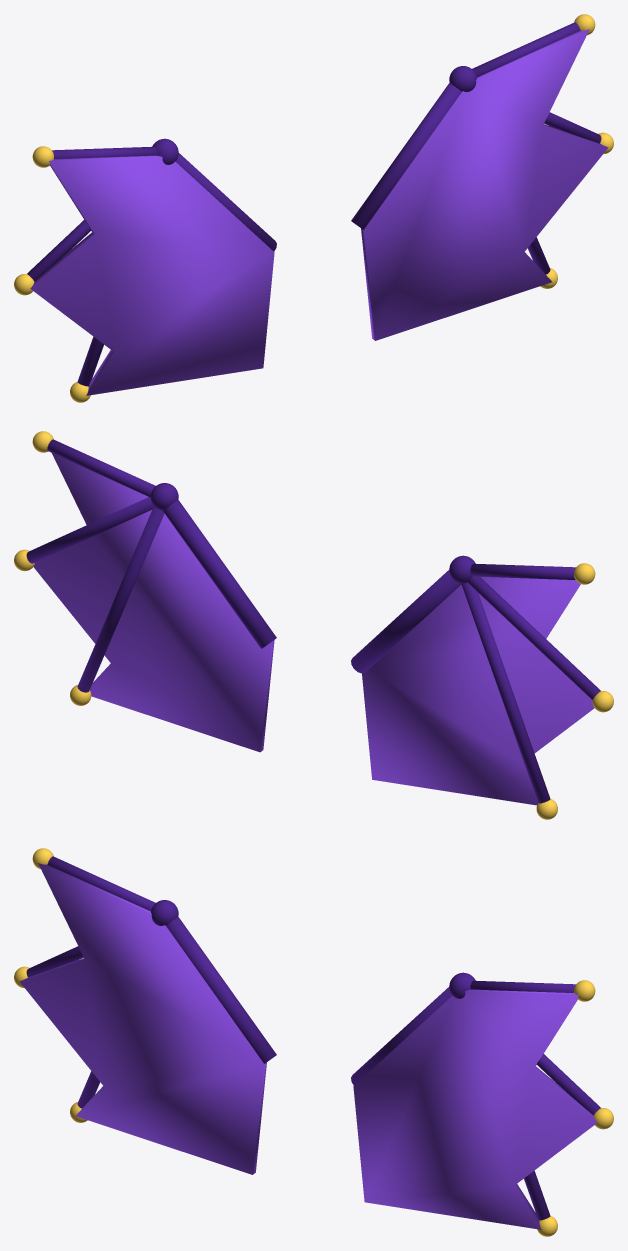
The model's file is dragon-wings.glb.
The picture shows the model from 3 angles, top to bottom: view 1: azimuth 30°, elevation 25°; view 2: azimuth 150°, elevation 25°; view 3: azimuth 330°, elevation 25°; orthographic projection.
Visible parts, largest first — view 1: dragon-wings; view 2: dragon-wings; view 3: dragon-wings.
Boxes of the visible parts, box(x1,y1,x2,y2) form: dragon-wings: box(14, 14, 613, 402); dragon-wings: box(14, 431, 613, 819); dragon-wings: box(14, 848, 613, 1236).
Size of the model in its own units: 3.2 by 1.38 by 0.1301.
